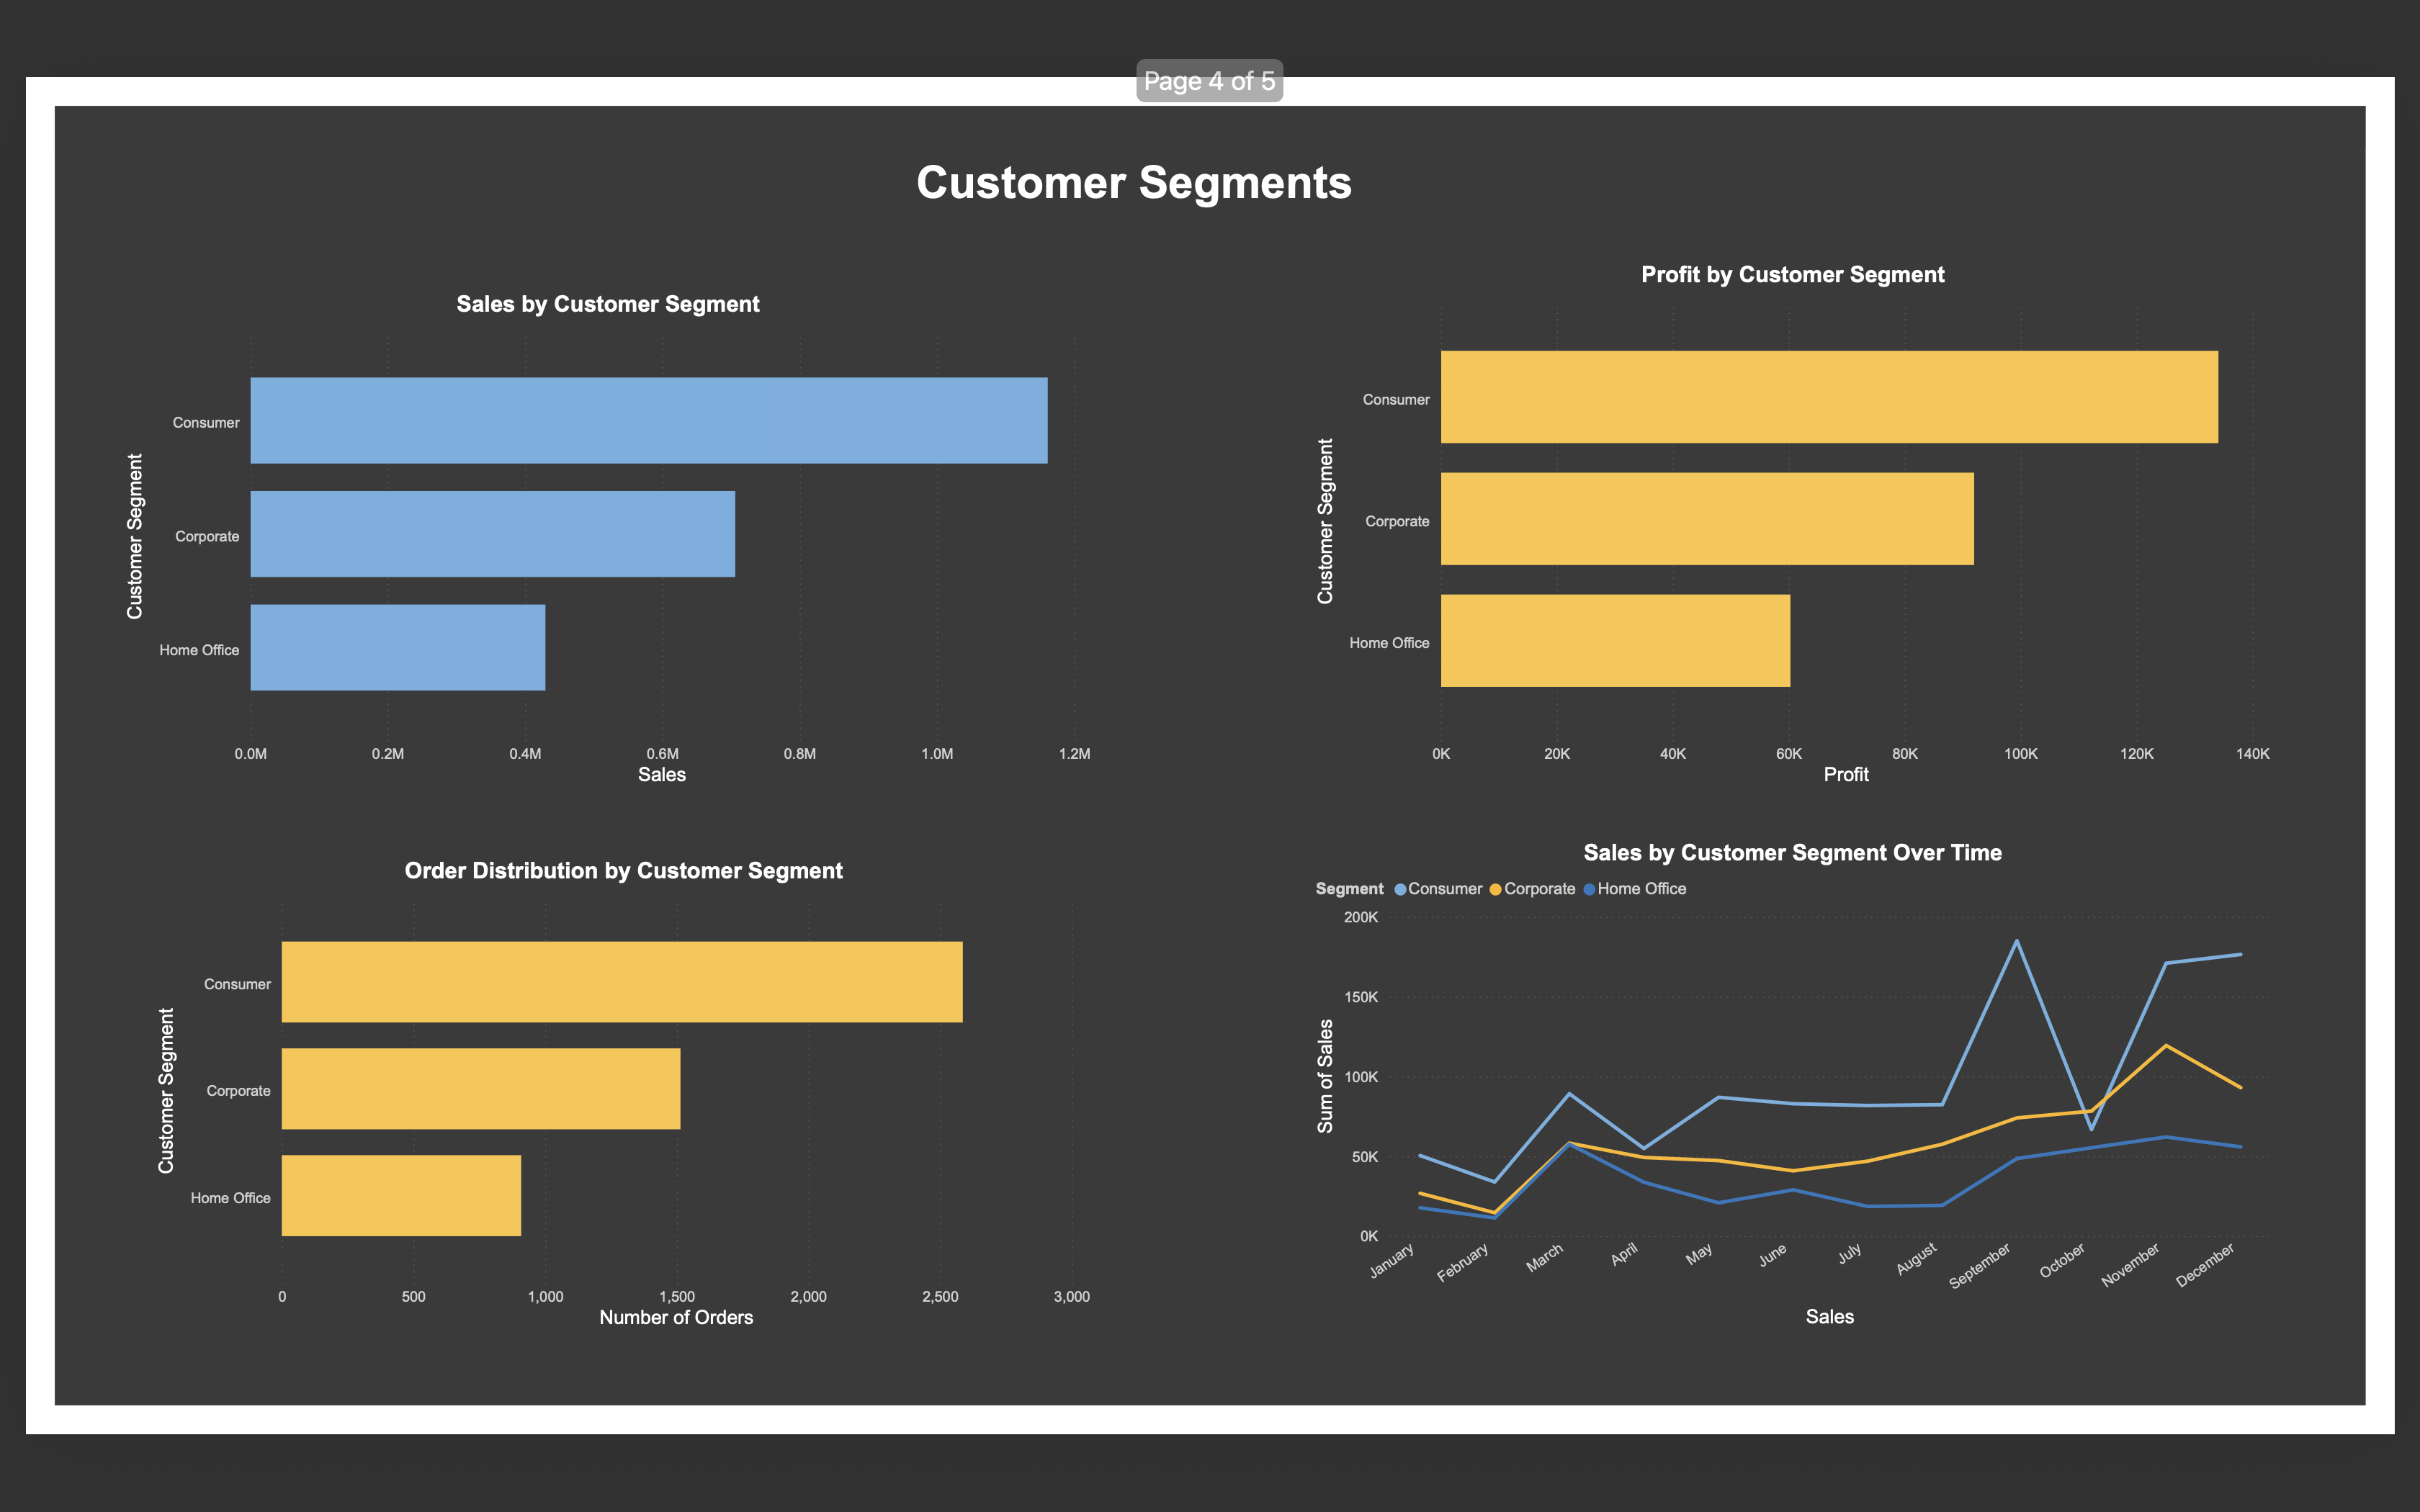

Layout of this report page (visuals, bound fields, positions):
{"tool":"powerbi","page":{"name":"Customer Segments","canvas":[1920,1080],"ordinal":3},"visuals":[{"type":"textbox","box":[529.3,36.8,737,92.1],"z":0},{"type":"clusteredBarChart","title":"Sales by Customer Segment","fields":{"Category":["Sample - Superstore 3.Segment"],"Y":["Sum(Sample - Superstore 3.Sales)"]},"box":[53.6,154.1,812.3,415.4],"z":1000},{"type":"clusteredBarChart","title":"Profit by Customer Segment","fields":{"Category":["Sample - Superstore 3.Segment"],"Y":["Sum(Sample - Superstore 3.Profit)"]},"box":[1043.5,129,802.3,440.5],"z":2000},{"type":"clusteredBarChart","title":"Order Distribution by  Customer Segment","fields":{"Category":["Sample - Superstore 3.Segment"],"Y":["Count(Sample - Superstore 3.Order ID)"]},"box":[80.4,624.8,785.5,395.3],"z":3000},{"type":"lineChart","title":"Sales by Customer Segment Over Time","fields":{"Category":["Sample - Superstore 3.Order Date.Variation.Date Hierarchy.Month"],"Y":["Sum(Sample - Superstore 3.Sales)"],"Series":["Sample - Superstore 3.Segment"]},"box":[1043.5,609.7,802.3,410.4],"z":4000}]}

Visuals, with their boxes on the page's 1920x1080 design canvas (x1, y1, x2, y2). These are canvas units, not pixel positions in the 2420x1512 screenshot, which may show the page scaled, cropped or inside an application window:
textbox: (x1=529, y1=37, x2=1266, y2=129)
"Sales by Customer Segment" clusteredBarChart: (x1=54, y1=154, x2=866, y2=570)
"Profit by Customer Segment" clusteredBarChart: (x1=1044, y1=129, x2=1846, y2=570)
"Order Distribution by  Customer Segment" clusteredBarChart: (x1=80, y1=625, x2=866, y2=1020)
"Sales by Customer Segment Over Time" lineChart: (x1=1044, y1=610, x2=1846, y2=1020)
